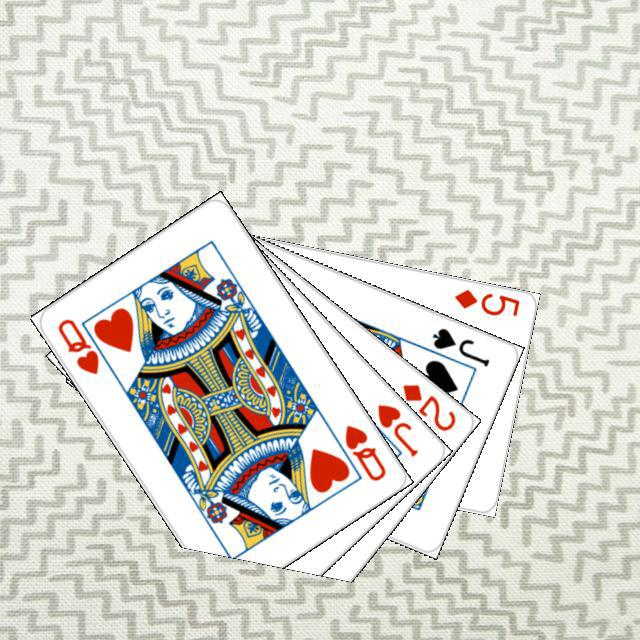2d: (397, 378, 458, 433)
5d: (449, 284, 522, 318)
Jh: (372, 399, 420, 459)
Js: (427, 323, 491, 368)
Qh: (52, 313, 117, 377), (339, 420, 388, 483)
